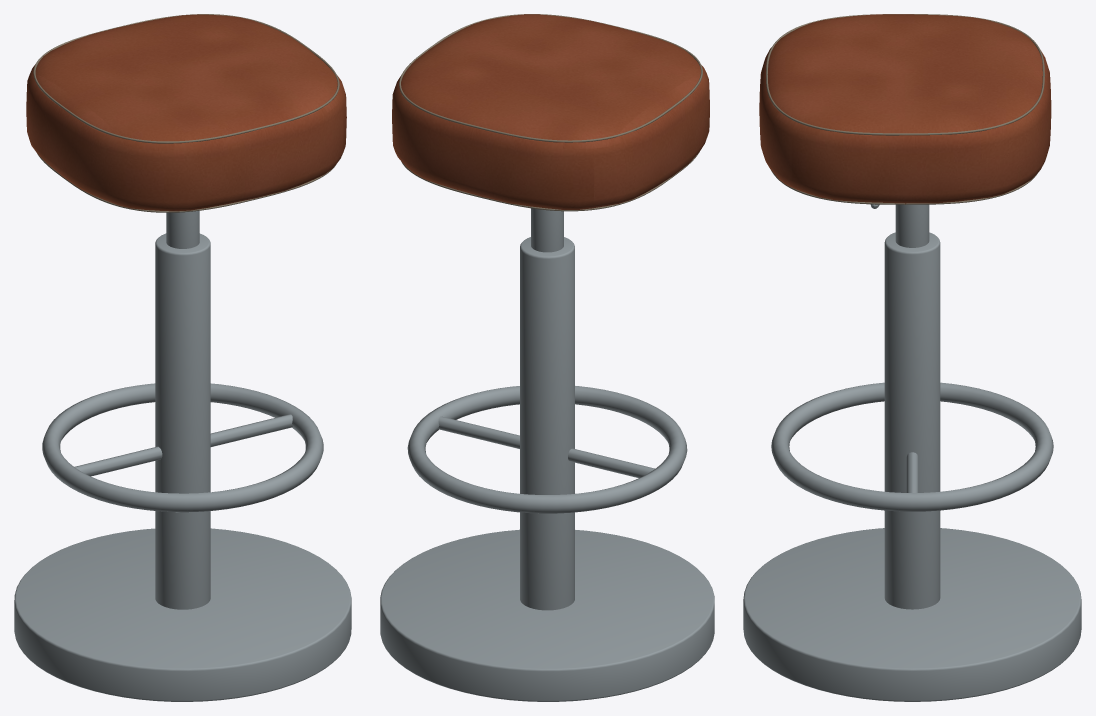
Rendered from stool.glb.
3 views of the same model, side by side, from view 1: azimuth 30°, elevation 25°; view 2: azimuth 150°, elevation 25°; view 3: azimuth 270°, elevation 25° (orthographic).
Visible parts, largest first — view 1: Leather | circular bar seat, Steel | circular weighted base, Steel | gas-lift outer, Steel | foot ring, Leather | circular bar seat | upper tailored welt, Steel | inner lift, Foot ring | radial brace.001, Foot ring | radial brace, Leather | circular bar seat | lower tailored welt; view 2: Leather | circular bar seat, Steel | circular weighted base, Steel | gas-lift outer, Steel | foot ring, Leather | circular bar seat | upper tailored welt, Steel | inner lift, Foot ring | radial brace.001, Foot ring | radial brace, Leather | circular bar seat | lower tailored welt; view 3: Leather | circular bar seat, Steel | circular weighted base, Steel | gas-lift outer, Steel | foot ring, Leather | circular bar seat | upper tailored welt, Steel | inner lift, Leather | circular bar seat | lower tailored welt.
Part boxes in pixels (x1,y1,x2,y2): Leather | circular bar seat: (26, 14, 346, 211); Steel | circular weighted base: (14, 528, 351, 701); Steel | gas-lift outer: (155, 233, 210, 609); Steel | foot ring: (42, 383, 323, 512); Leather | circular bar seat | upper tailored welt: (33, 14, 339, 143); Steel | inner lift: (166, 210, 199, 248); Foot ring | radial brace.001: (210, 414, 292, 446); Foot ring | radial brace: (74, 446, 162, 476); Leather | circular bar seat | lower tailored welt: (36, 152, 336, 212); Leather | circular bar seat: (392, 14, 709, 209); Steel | circular weighted base: (380, 529, 714, 701); Steel | gas-lift outer: (520, 237, 574, 610); Steel | foot ring: (407, 386, 687, 513); Leather | circular bar seat | upper tailored welt: (399, 14, 702, 142); Steel | inner lift: (531, 208, 563, 252); Foot ring | radial brace.001: (438, 416, 519, 448); Foot ring | radial brace: (568, 448, 654, 477); Leather | circular bar seat | lower tailored welt: (401, 152, 699, 211); Leather | circular bar seat: (759, 14, 1051, 203); Steel | circular weighted base: (743, 528, 1081, 701); Steel | gas-lift outer: (884, 232, 940, 609); Steel | foot ring: (771, 382, 1053, 511); Leather | circular bar seat | upper tailored welt: (766, 14, 1044, 135); Steel | inner lift: (895, 204, 929, 247); Leather | circular bar seat | lower tailored welt: (771, 170, 1037, 204).
Size of the model in its own units: 0.4 by 0.74 by 0.4.
4 materials, 1 textured.
